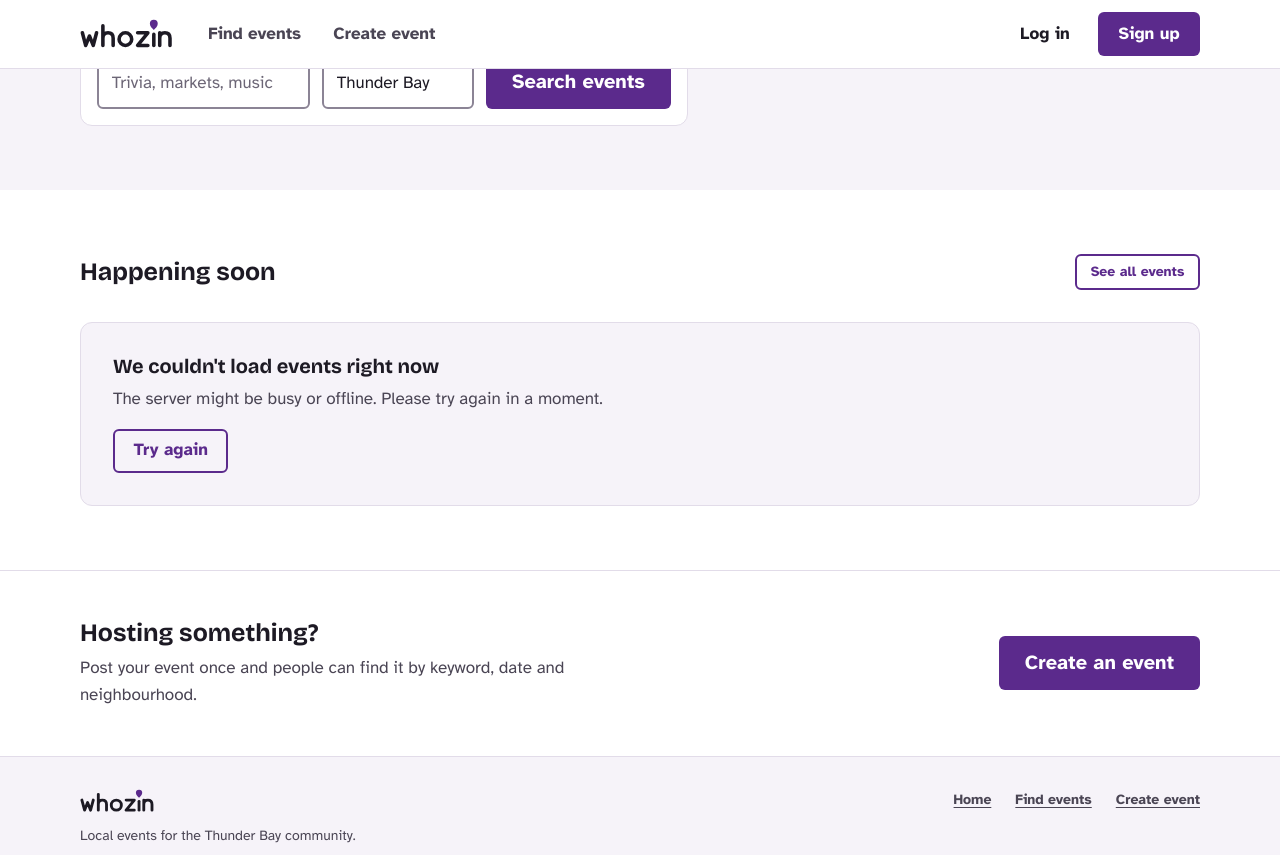
homepage events › shows an error and loads the events again with Try again
This screenshot has width=1280, height=855.
(page scrolled)
Expected: the message shows "We couldn't load events right now", [113,354,439,378]
Click the button "Try again": [171, 451] box [113,429,228,473]
(page scrolled)
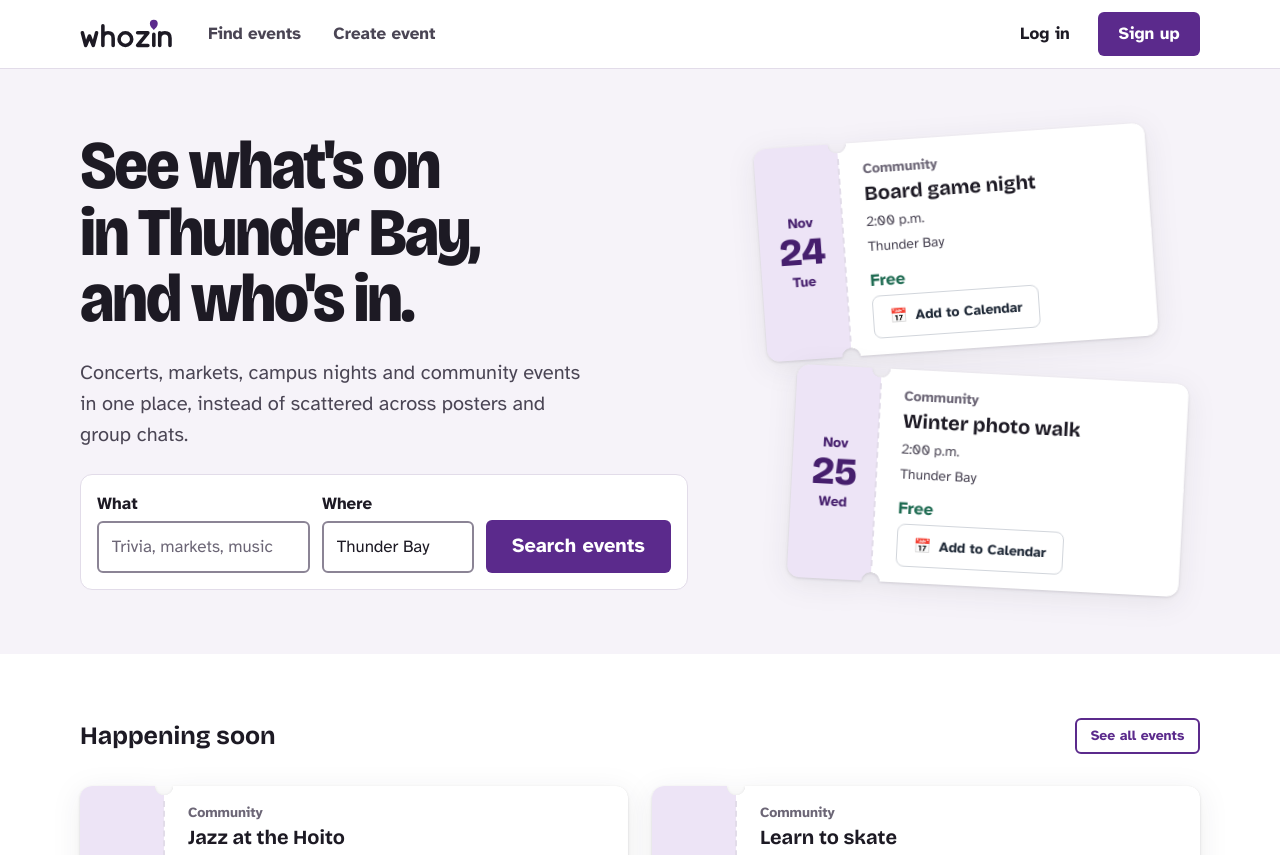
Expected: the link "Board game night" is shown, [864,170,1037,206]
Expected: the message is gone
